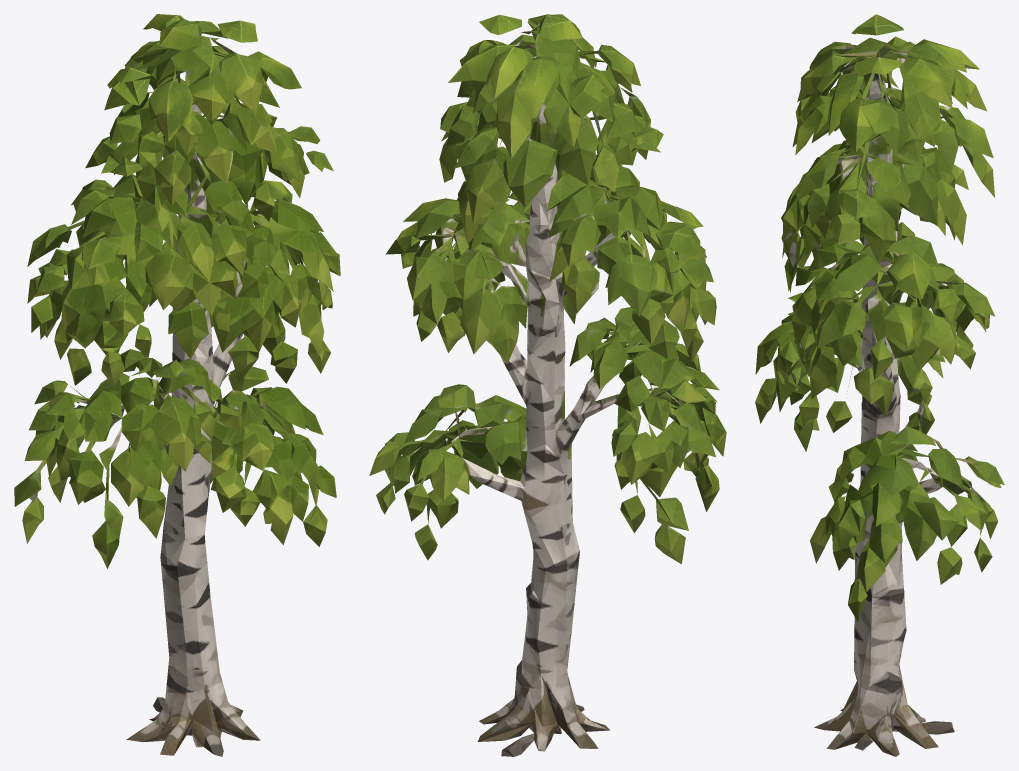
The model's file is tree_birch.glb.
3 renders of one model, left to right at view 1: azimuth 30°, elevation 25°; view 2: azimuth 150°, elevation 25°; view 3: azimuth 270°, elevation 25°, orthographic.
Visible parts, largest first — view 1: Mesh_0; view 2: Mesh_0; view 3: Mesh_0.
Boxes of the visible parts, <box> form: Mesh_0: <box>14,14,340,756</box>; Mesh_0: <box>369,14,726,756</box>; Mesh_0: <box>755,14,1004,756</box>.
Size of what is drawn, in the model's own units: 0.8806 by 1.9 by 0.6102.
1 material, 1 textured.
